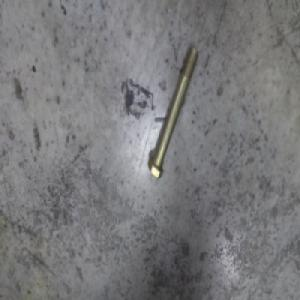Bolt: (153, 46, 205, 178)
